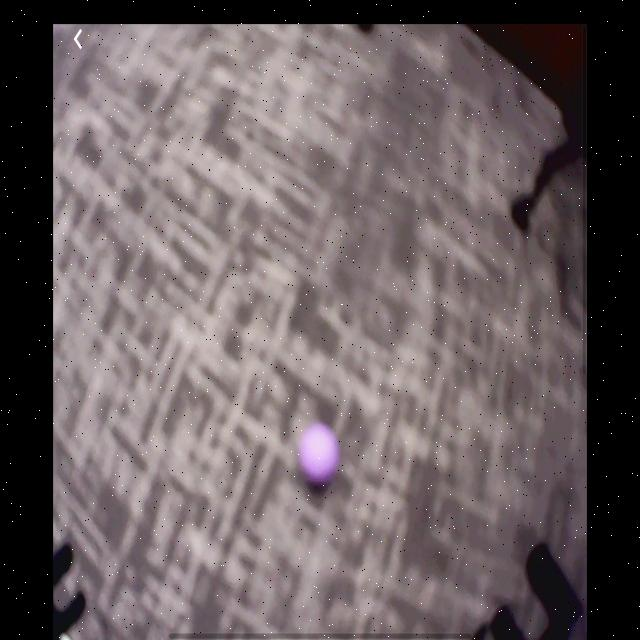ball: (298, 425, 341, 491)
